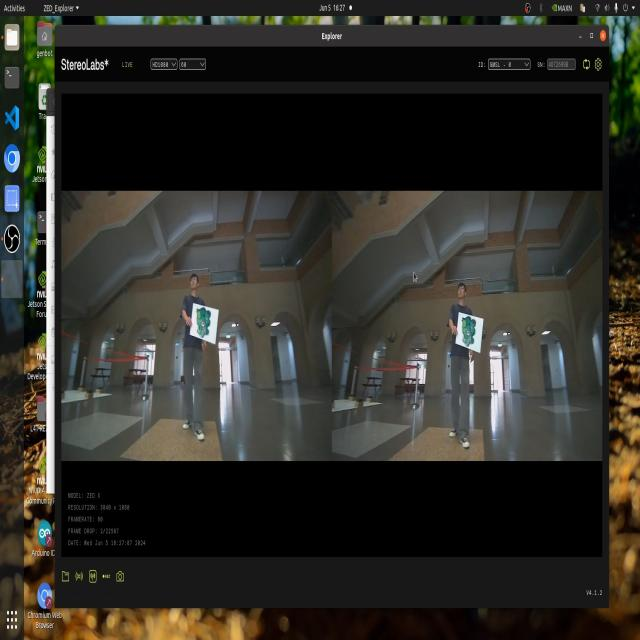green: (452, 314, 480, 357), (198, 306, 219, 342)
